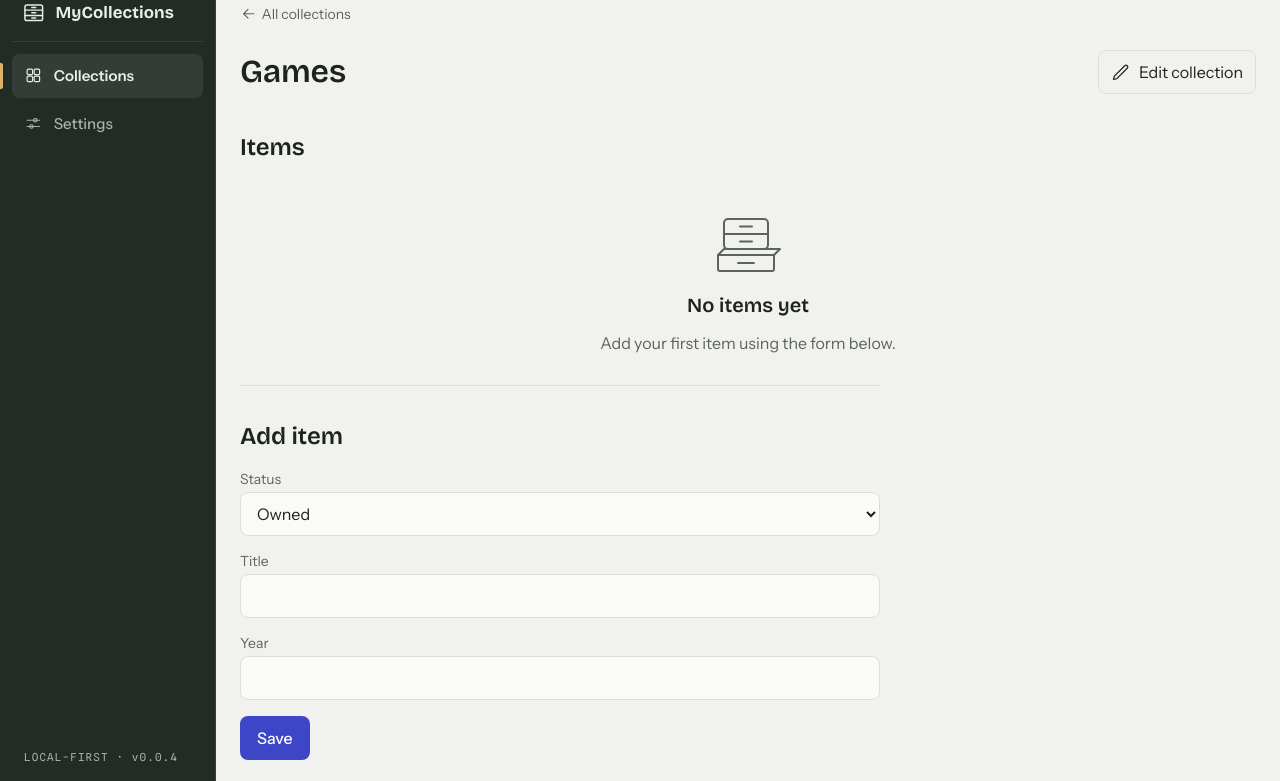
Test: CollectionDetailPage › mutation failures (#237) › reports a failed add instead of silently discarding the form
Type "Mario" into the field labelled "Title" at (560, 596), box [240, 574, 880, 618]
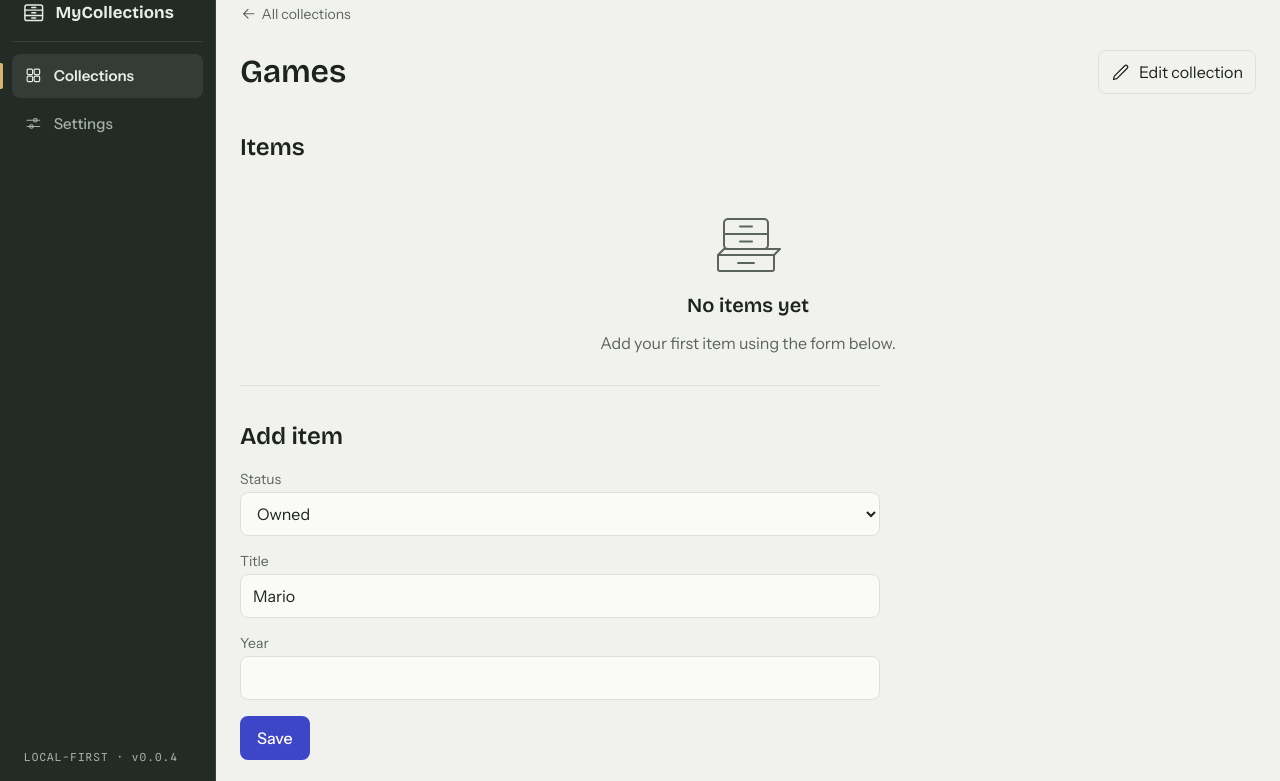
Click the button "Save" at (275, 738), box [240, 716, 310, 760]
(page scrolled)
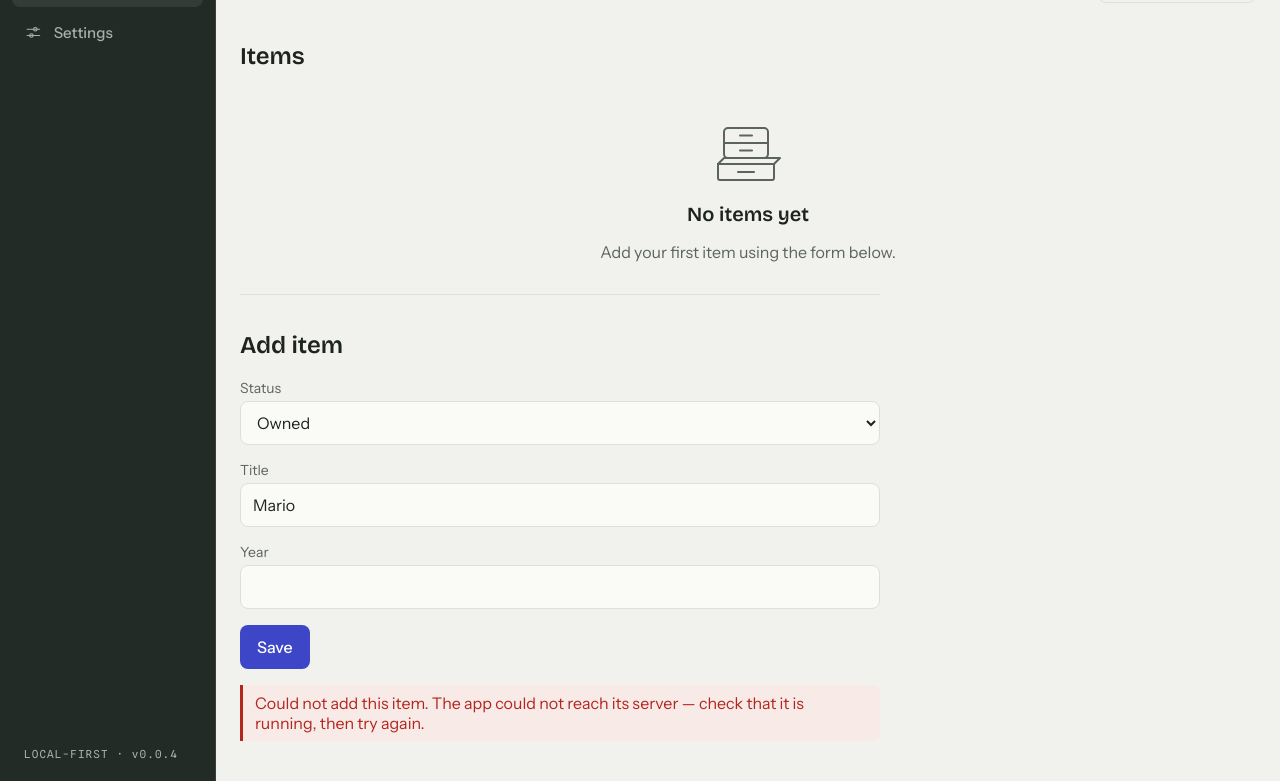
Expected: the message shows "Could not add this item", [255, 692, 804, 732]
Expected: the message is shown, [240, 684, 880, 740]
